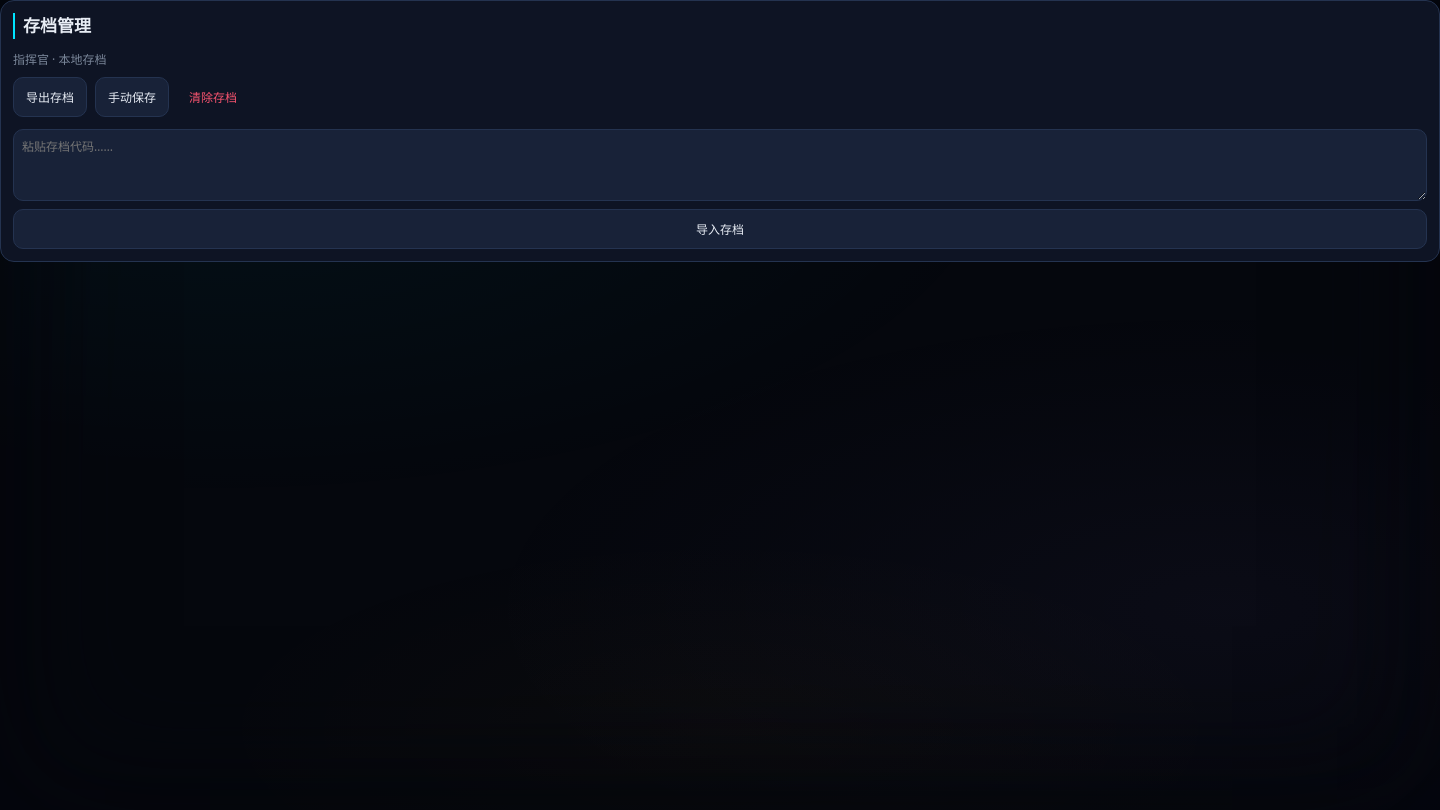
Test: SavePanel 存档管理 › 导出成功：剪贴板写入并显示导出码与已复制提示
Click the button "导出存档": (50, 96) top-left (13, 76), bottom-right (87, 116)
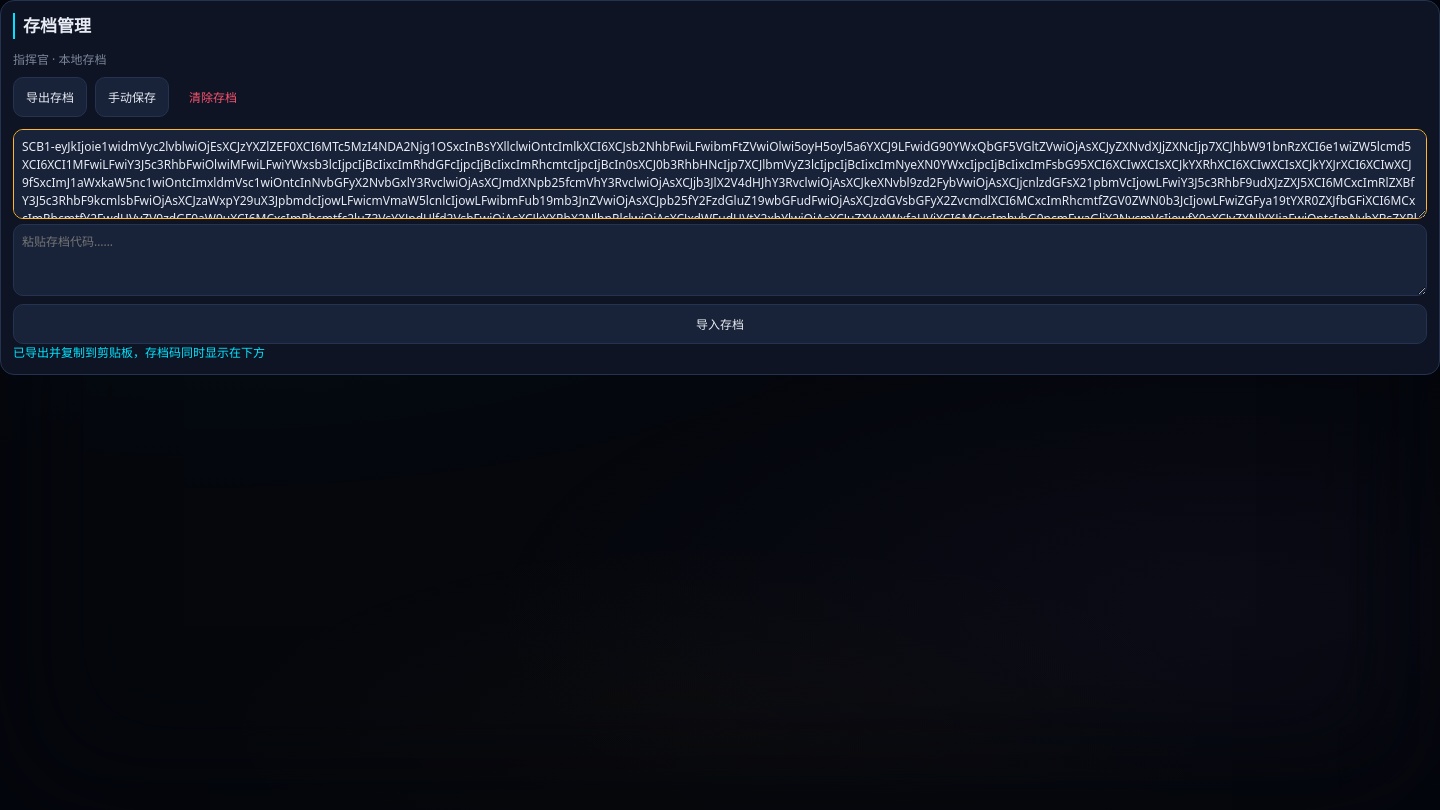
Result: the text box named "导出存档码" is shown at top-left (13, 128), bottom-right (1427, 218)
Result: the text with class "import-msg" reads "已导出并复制到剪贴板，存档码同时显示在下方" at top-left (13, 344), bottom-right (265, 360)
